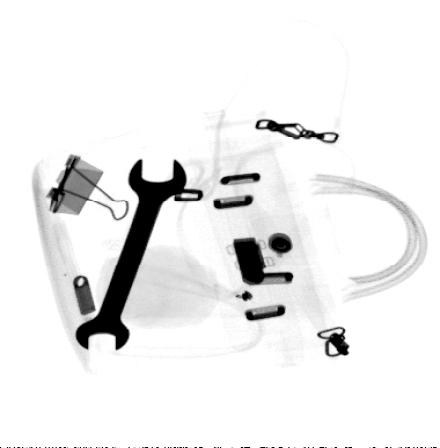Wrench: (73, 155, 189, 352)
